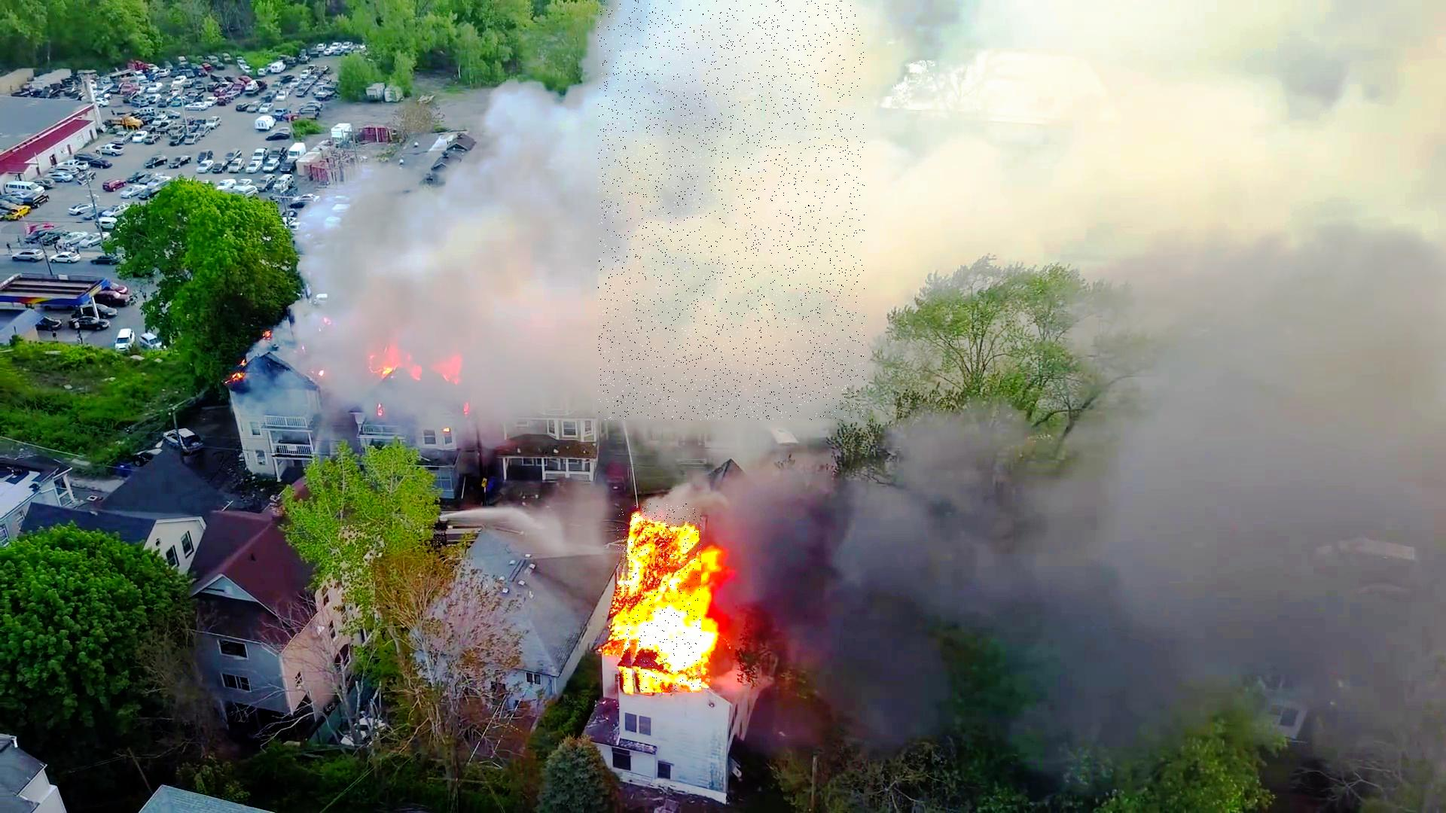fire: (617, 504, 701, 693)
smoke: (599, 0, 865, 420)
